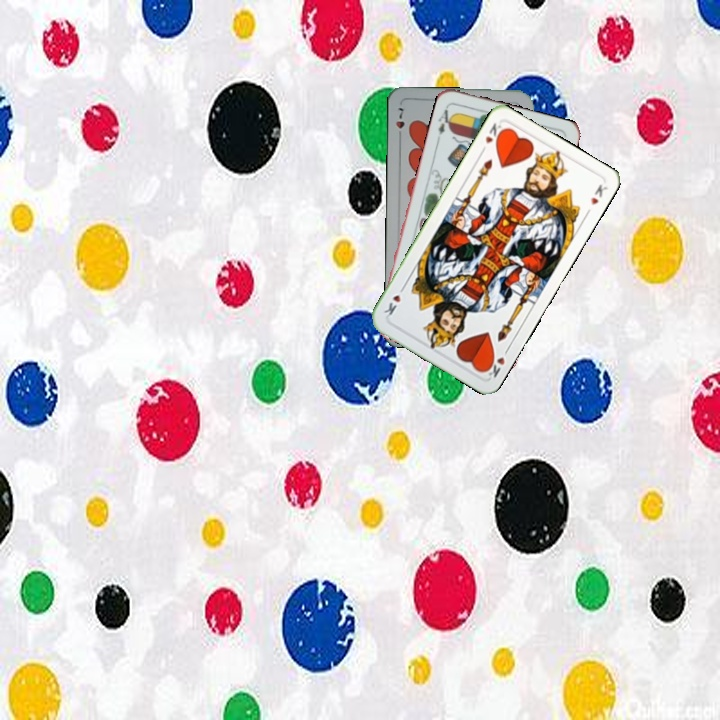EA: (434, 102, 456, 137)
H7: (391, 103, 407, 142)
HK: (480, 343, 512, 380), (477, 119, 508, 156)
